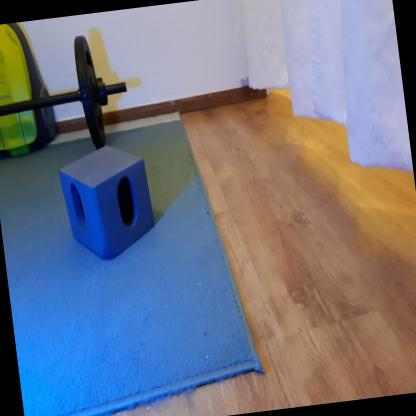CornerCasting: (54, 136, 158, 268)
